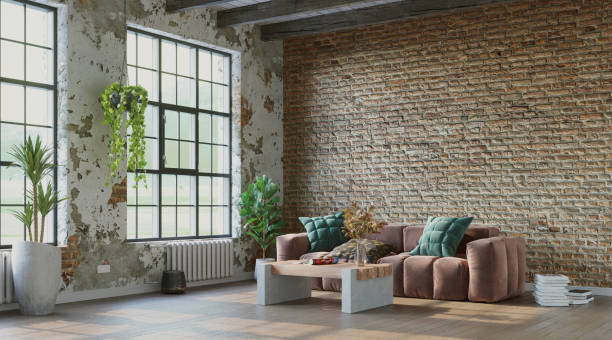flower vase: (342, 200, 387, 268)
large plant: (4, 133, 70, 317), (240, 173, 279, 258)
sofa: (275, 210, 528, 305)
table: (254, 257, 395, 316)
